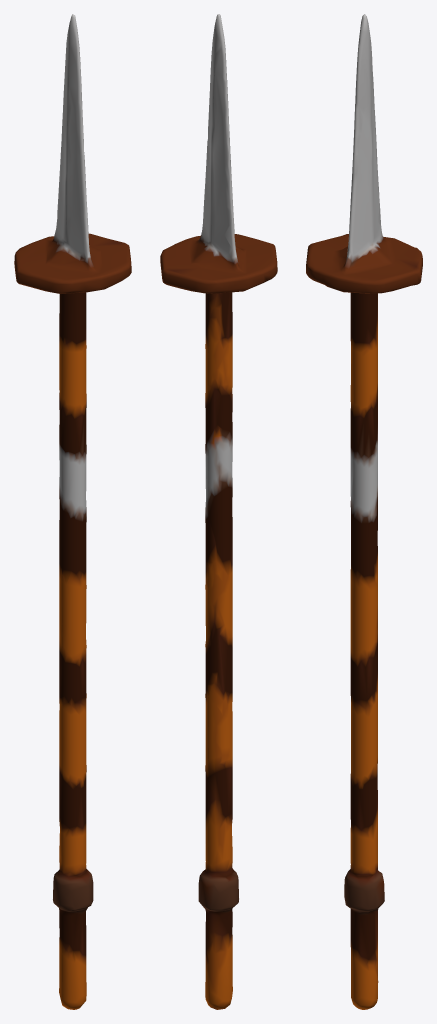
Rendered from gen3d-jousting-lance-lod0.glb.
3 views of the same model, side by side, from view 1: azimuth 30°, elevation 25°; view 2: azimuth 210°, elevation 25°; view 3: azimuth 330°, elevation 25° (orthographic).
Visible parts, largest first — view 1: part_0; view 2: part_0; view 3: part_0.
Boxes of the visible parts, x1,y1,x2,y2 form: part_0: (14,14,131,1009); part_0: (160,14,277,1009); part_0: (306,14,422,1009).
Size of the model in its own units: 0.1178 by 1 by 0.1012.
